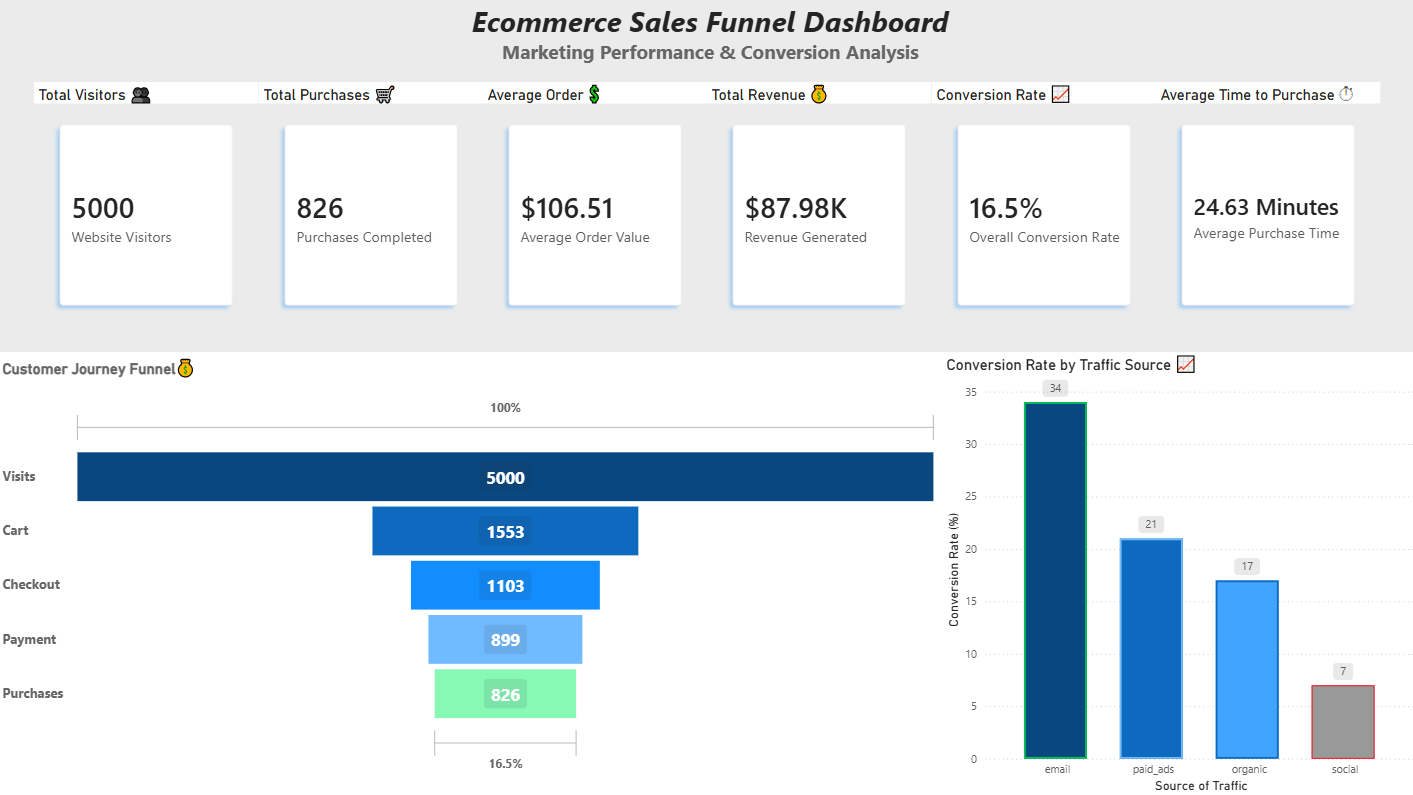

The dashboard page shown, as its layout file describes it:
{"tool":"powerbi","page":{"name":"REPORT PAGE","canvas":[1600,900],"ordinal":0},"visuals":[{"type":"cardVisual","title":"Total Visitors 👥","fields":{"Data":["Min(02_conversion_rates csv.Total Visitors)"]},"box":[41,97,252,280],"z":0},{"type":"cardVisual","title":"Conversion Rate 📈","fields":{"Data":["02_conversion_rates csv.Conversion Rate Label"]},"box":[1049,97,252,280],"z":1000},{"type":"cardVisual","title":"Total Revenue 💰","fields":{"Data":["Sum(01_funnel_metrics csv.total_revenue)"]},"box":[797,97,252,280],"z":2000},{"type":"cardVisual","title":"Total Purchases 🛒","fields":{"Data":["Sum(01_funnel_metrics csv.total_buyers)"]},"box":[293,97,252,280],"z":3000},{"type":"clusteredColumnChart","title":"Conversion Rate by Traffic Source 📈","fields":{"Category":["03_traffic_analysis csv.traffic_source"],"Y":["Sum(03_traffic_analysis csv.purchase_conversion_rate)"]},"box":[1061.2,400,538.8,500],"z":4000},{"type":"cardVisual","title":"Average Time to Purchase ⏱","fields":{"Data":["01_funnel_metrics csv.Average Time Display"]},"box":[1301,97,252,280],"z":5000},{"type":"funnel","title":"Customer Journey Funnel💰","fields":{"Y":["Sum(01_funnel_metrics csv.stage_1_views)","Sum(02_conversion_rates csv.stage_2_cart)","Sum(02_conversion_rates csv.stage_3_checkout)","Sum(02_conversion_rates csv.stage_4_payment)","Sum(02_conversion_rates csv.stage_5_purchase)"]},"box":[0,400,1061,500],"z":6000},{"type":"textbox","box":[478.3,0,643.4,102.4],"z":7000},{"type":"cardVisual","title":"Average Order 💲","fields":{"Data":["Sum(01_funnel_metrics csv.avg_order_value)"]},"box":[545,97,252,280],"z":8000}]}

Visuals, with their boxes in screenshot pixels (x1, y1, x2, y2), scaled from the page's 1600x900 canvas onto the 1413x795 screenshot:
"Total Visitors 👥" cardVisual: crop(36, 86, 259, 333)
"Conversion Rate 📈" cardVisual: crop(926, 86, 1149, 333)
"Total Revenue 💰" cardVisual: crop(704, 86, 926, 333)
"Total Purchases 🛒" cardVisual: crop(259, 86, 481, 333)
"Conversion Rate by Traffic Source 📈" clusteredColumnChart: crop(937, 353, 1412, 794)
"Average Time to Purchase ⏱" cardVisual: crop(1149, 86, 1371, 333)
"Customer Journey Funnel💰" funnel: crop(0, 353, 937, 794)
textbox: crop(422, 0, 991, 90)
"Average Order 💲" cardVisual: crop(481, 86, 704, 333)
